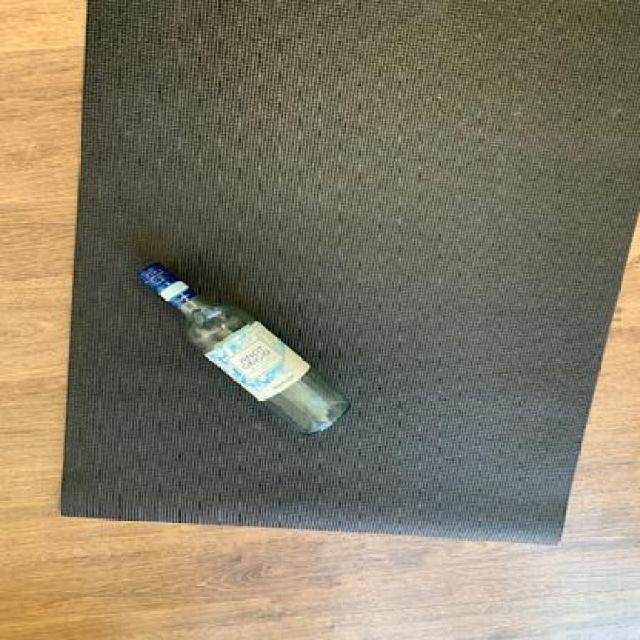trash: (136, 259, 361, 441)
